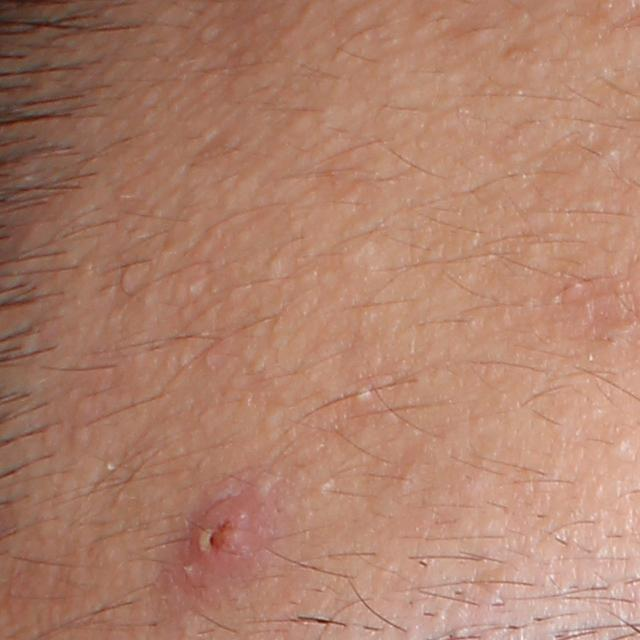comedo: (603, 428, 639, 468), (341, 2, 369, 29), (181, 279, 205, 301), (197, 23, 220, 44), (351, 381, 372, 404)
papule: (168, 476, 283, 591)
